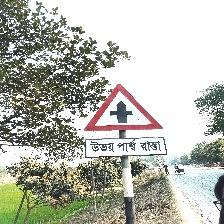Crossroad: (83, 84, 167, 158)
